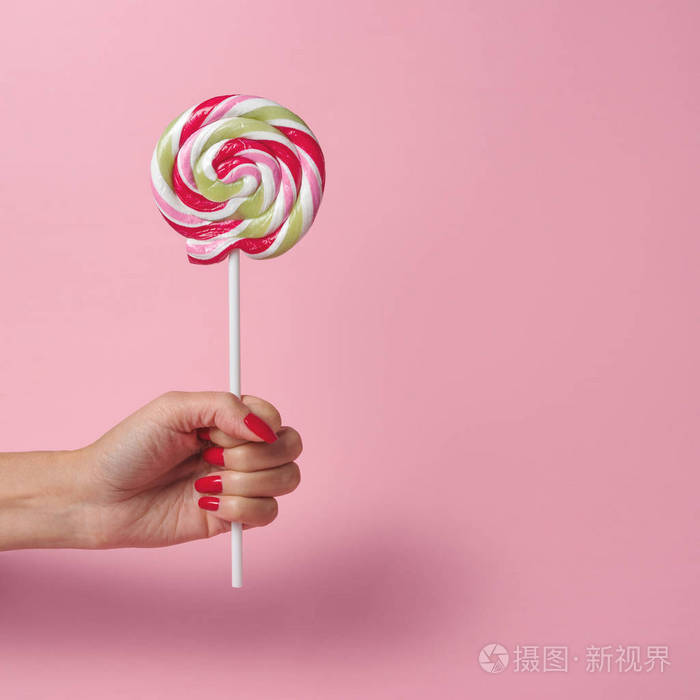no-phone: (58, 84, 327, 584)
